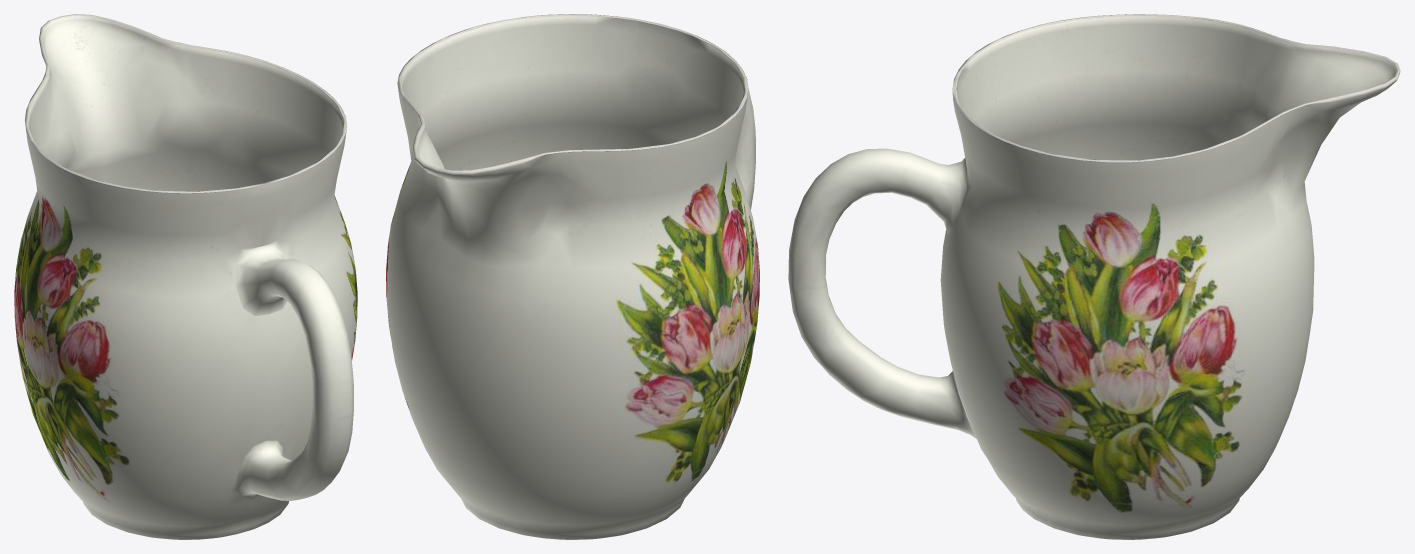
Rendered from pitcher_porcelain.glb.
3 renders of one model, left to right at view 1: azimuth 30°, elevation 25°; view 2: azimuth 150°, elevation 25°; view 3: azimuth 270°, elevation 25°, orthographic. The views are drawn at different scales.
Parts seen in each view (by area): view 1: Cylinder_Material.001_0; view 2: Cylinder_Material.001_0; view 3: Cylinder_Material.001_0.
Boxes of the visible parts, left/top/right/bottom form: Cylinder_Material.001_0: left=14, top=14, right=357, bottom=539; Cylinder_Material.001_0: left=386, top=14, right=759, bottom=539; Cylinder_Material.001_0: left=788, top=14, right=1400, bottom=539.
Size of the model in its own units: 0.1675 by 0.2099 by 0.2748.
1 material, 1 textured.
